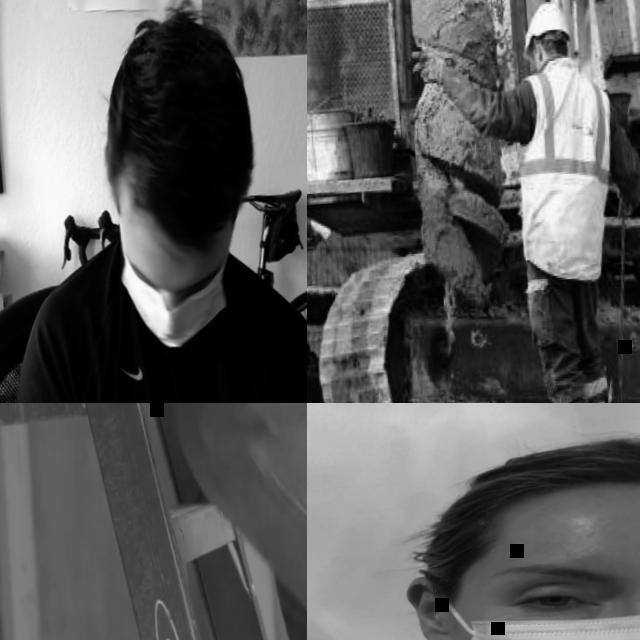helmet: (518, 0, 568, 58)
vest: (508, 54, 624, 284), (307, 0, 365, 28)
